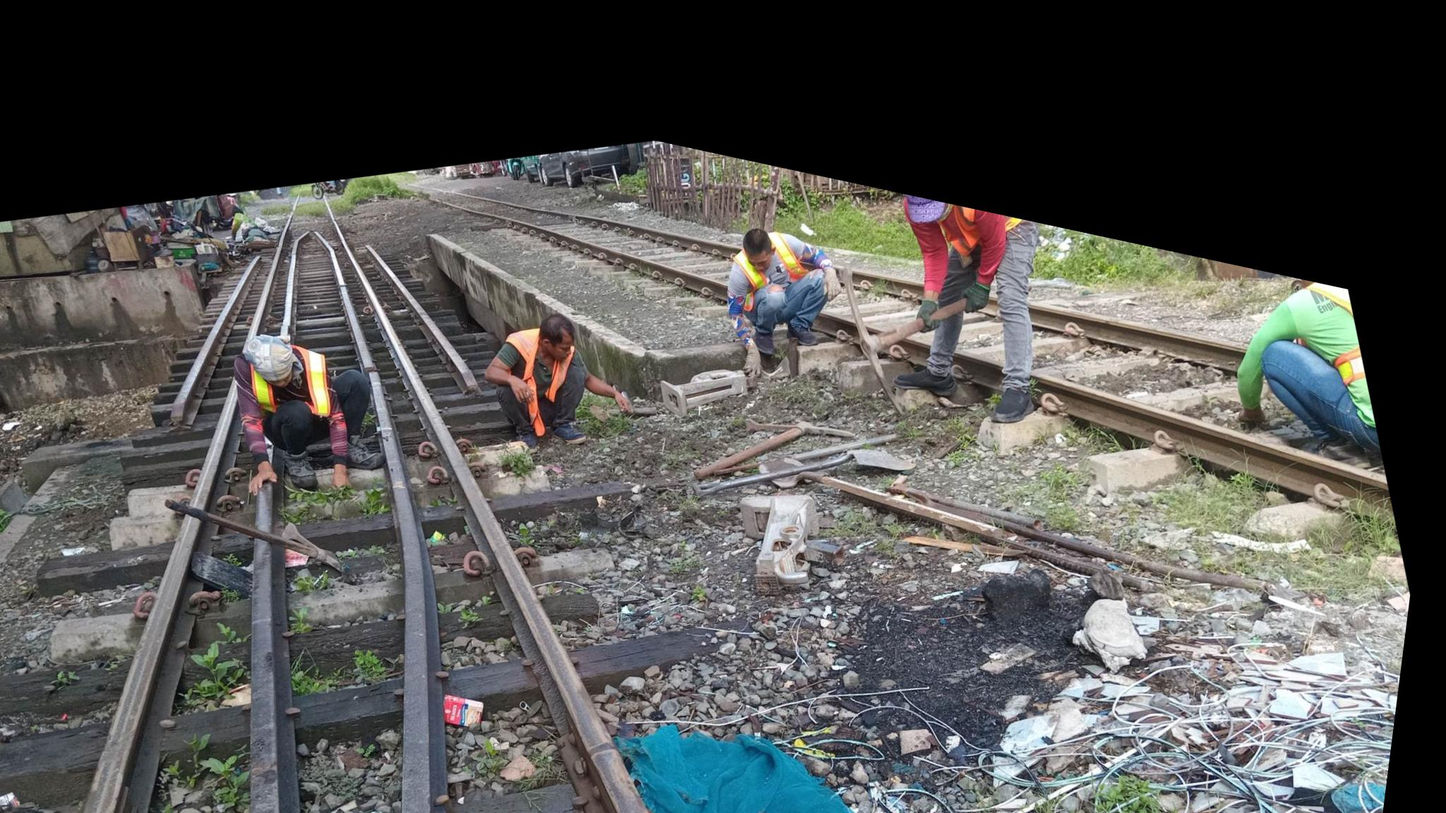person: (563, 666, 668, 772), (71, 797, 150, 813)
